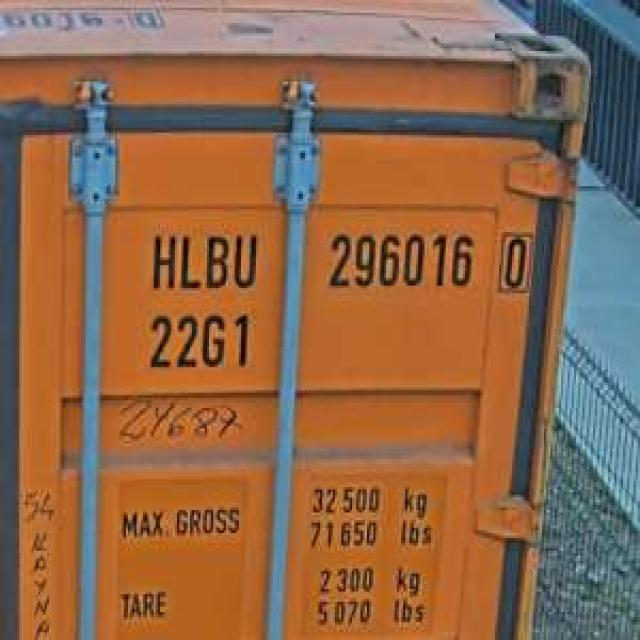dv: (493, 224, 535, 296)
owner: (145, 224, 262, 294)
serial: (322, 222, 476, 296)
size: (141, 306, 256, 375)
